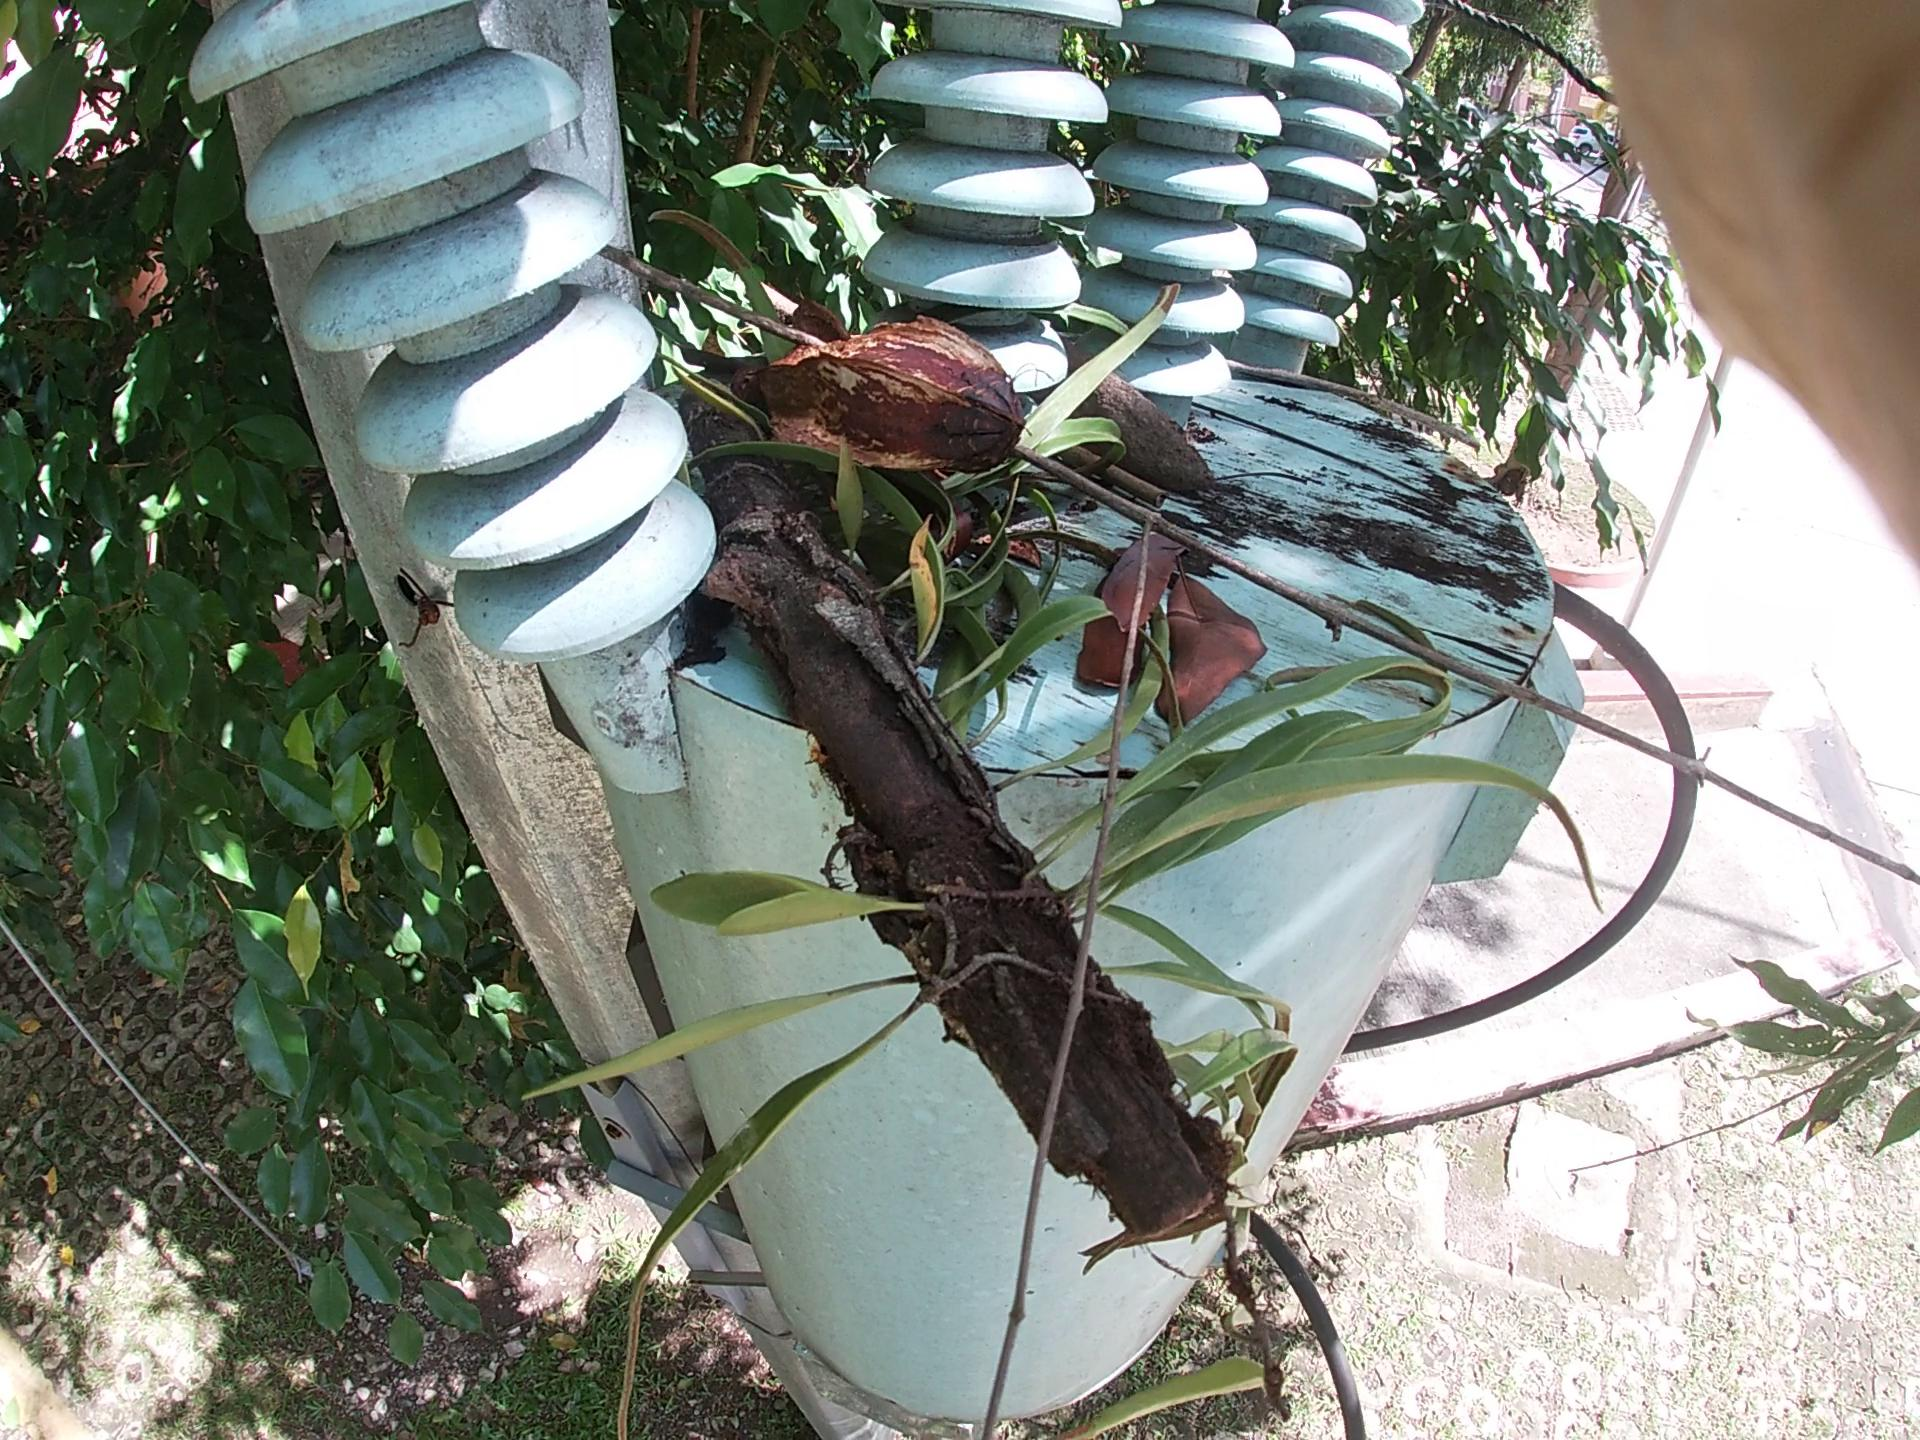branch with leaves: (612, 272, 1321, 1269)
leaf: (996, 501, 1333, 836)
mahogany fruit: (732, 284, 1017, 502), (1033, 299, 1256, 540)
tree branch: (649, 244, 1640, 815), (1214, 333, 1439, 433)
